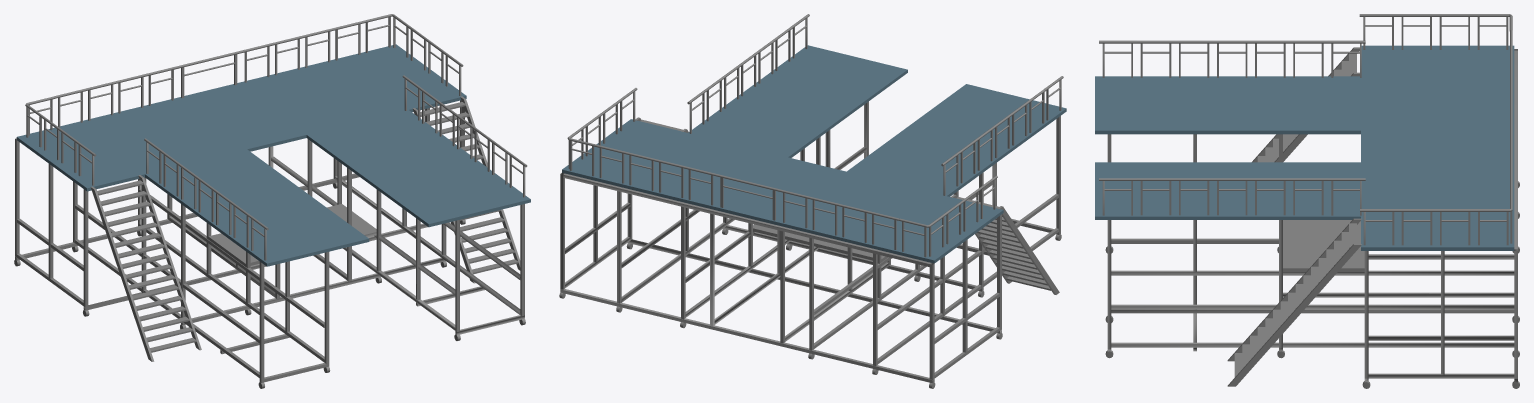
Rendered from hangar_ladder_big.fbx.
The picture shows the model from 3 angles, left to right: view 1: azimuth 30°, elevation 25°; view 2: azimuth 150°, elevation 25°; view 3: azimuth 270°, elevation 25°; orthographic projection. The views are drawn at different scales.
Parts seen in each view (by area): view 1: SM_DockingStation_438_GEN_VARIABLE_StaticMeshActor_CAT_7694. (×3); view 2: SM_DockingStation_438_GEN_VARIABLE_StaticMeshActor_CAT_7694. (×3); view 3: SM_DockingStation_438_GEN_VARIABLE_StaticMeshActor_CAT_7694. (×3).
Part boxes in pixels (x1,y1,x2,y2): SM_DockingStation_438_GEN_VARIABLE_StaticMeshActor_CAT_7694. (×3): [14, 14, 530, 388]; SM_DockingStation_438_GEN_VARIABLE_StaticMeshActor_CAT_7694. (×3): [559, 14, 1066, 388]; SM_DockingStation_438_GEN_VARIABLE_StaticMeshActor_CAT_7694. (×3): [1095, 14, 1519, 388].
Size of the model in its own units: 12.52 by 5.16 by 11.15.
